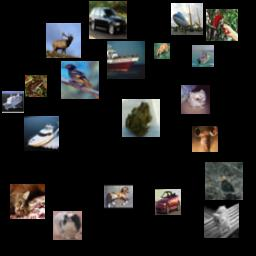airplane: (171, 3, 203, 35)
automobile: (89, 1, 127, 39), (155, 189, 181, 215)
bird: (205, 162, 243, 200), (61, 61, 99, 99), (206, 9, 238, 41)
cat: (204, 203, 239, 238), (10, 184, 45, 219), (181, 85, 210, 114)
deer: (46, 23, 81, 58), (192, 126, 218, 152), (154, 43, 170, 59)
dog: (53, 211, 82, 240)
frog: (122, 99, 160, 137), (25, 75, 47, 97)
ship: (107, 41, 145, 79), (24, 116, 59, 151), (192, 45, 214, 67), (2, 91, 24, 113)
